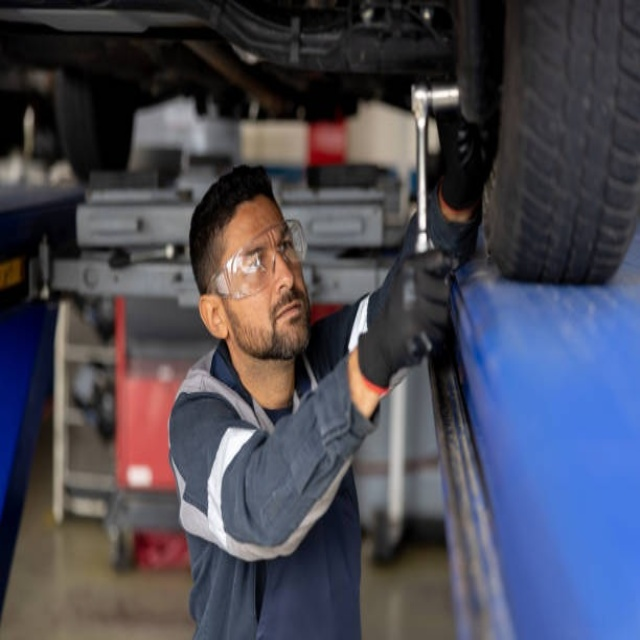Gafas: (209, 221, 309, 299)
Guantes: (356, 246, 459, 392), (436, 102, 497, 213)
Sin_mascara: (264, 287, 306, 347)
